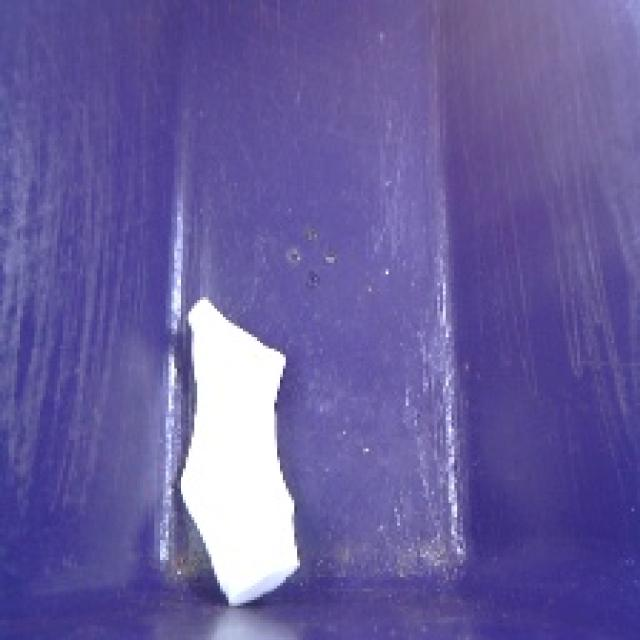china: (158, 275, 311, 620)
